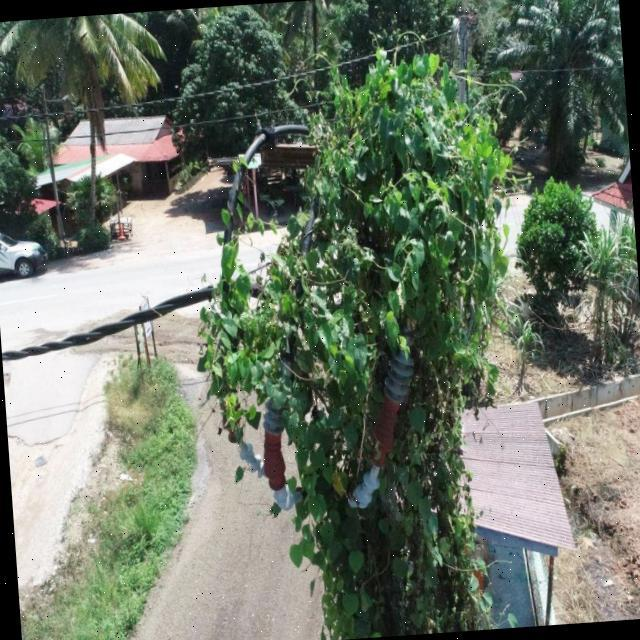critical vegetation: (163, 36, 550, 633)
